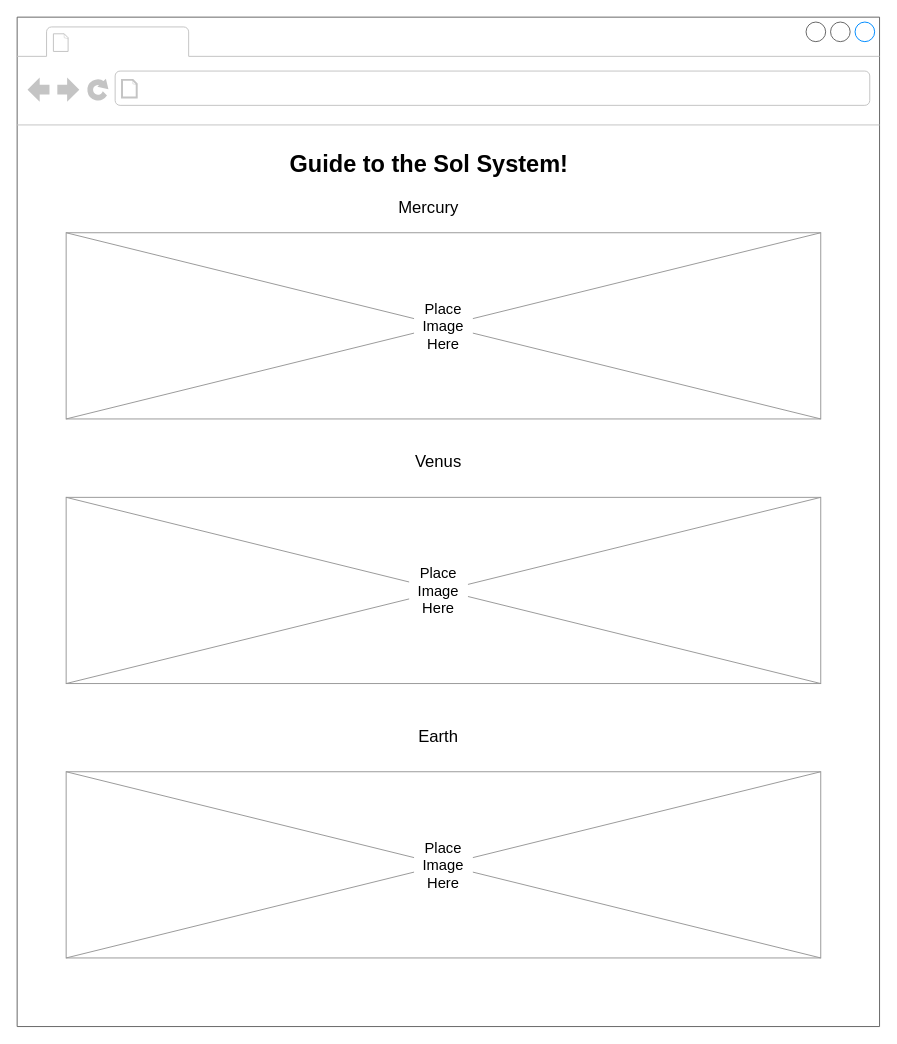
This 897x1044 diagram has some shape labels left out. Here are the shapes that lost their labels. From the top down, the box of each, then its label:
(75, 28, 184, 54): projectSol.com
(144, 75, 390, 101): https://www.projectSol.com
